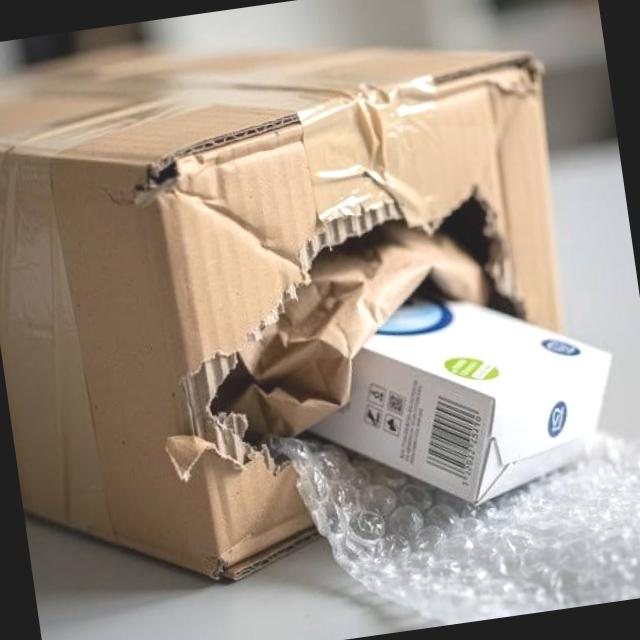package_damage: (89, 46, 640, 593)
